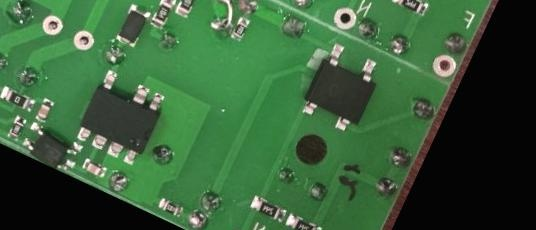chip-capacitor: (32, 94, 55, 123), (78, 156, 107, 179)
chip-resistor: (246, 192, 287, 223), (0, 82, 36, 112), (147, 0, 178, 30), (281, 209, 323, 230), (389, 0, 431, 17), (4, 113, 28, 142), (155, 193, 184, 217), (228, 12, 251, 41)
diode: (112, 0, 152, 48)
ic: (71, 65, 171, 167), (295, 38, 387, 139), (16, 118, 85, 175)
